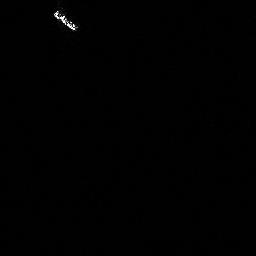ship: (51, 8, 80, 32)
